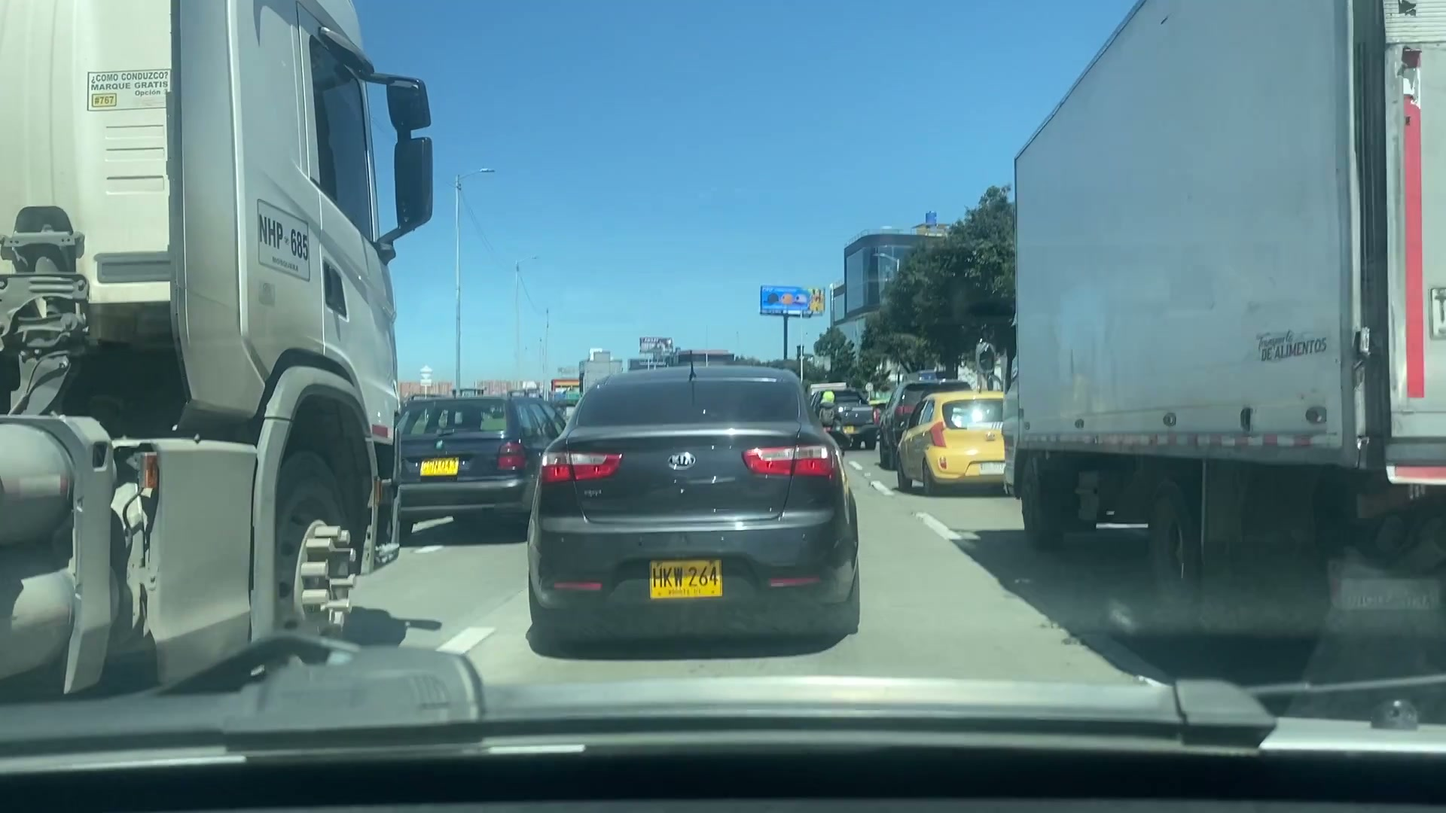car: (526, 365, 860, 653), (386, 384, 573, 548), (898, 394, 1016, 490), (878, 377, 972, 469), (808, 390, 879, 451)
person: (812, 387, 845, 439)
truck: (2, 0, 438, 698), (974, 0, 1446, 637)
